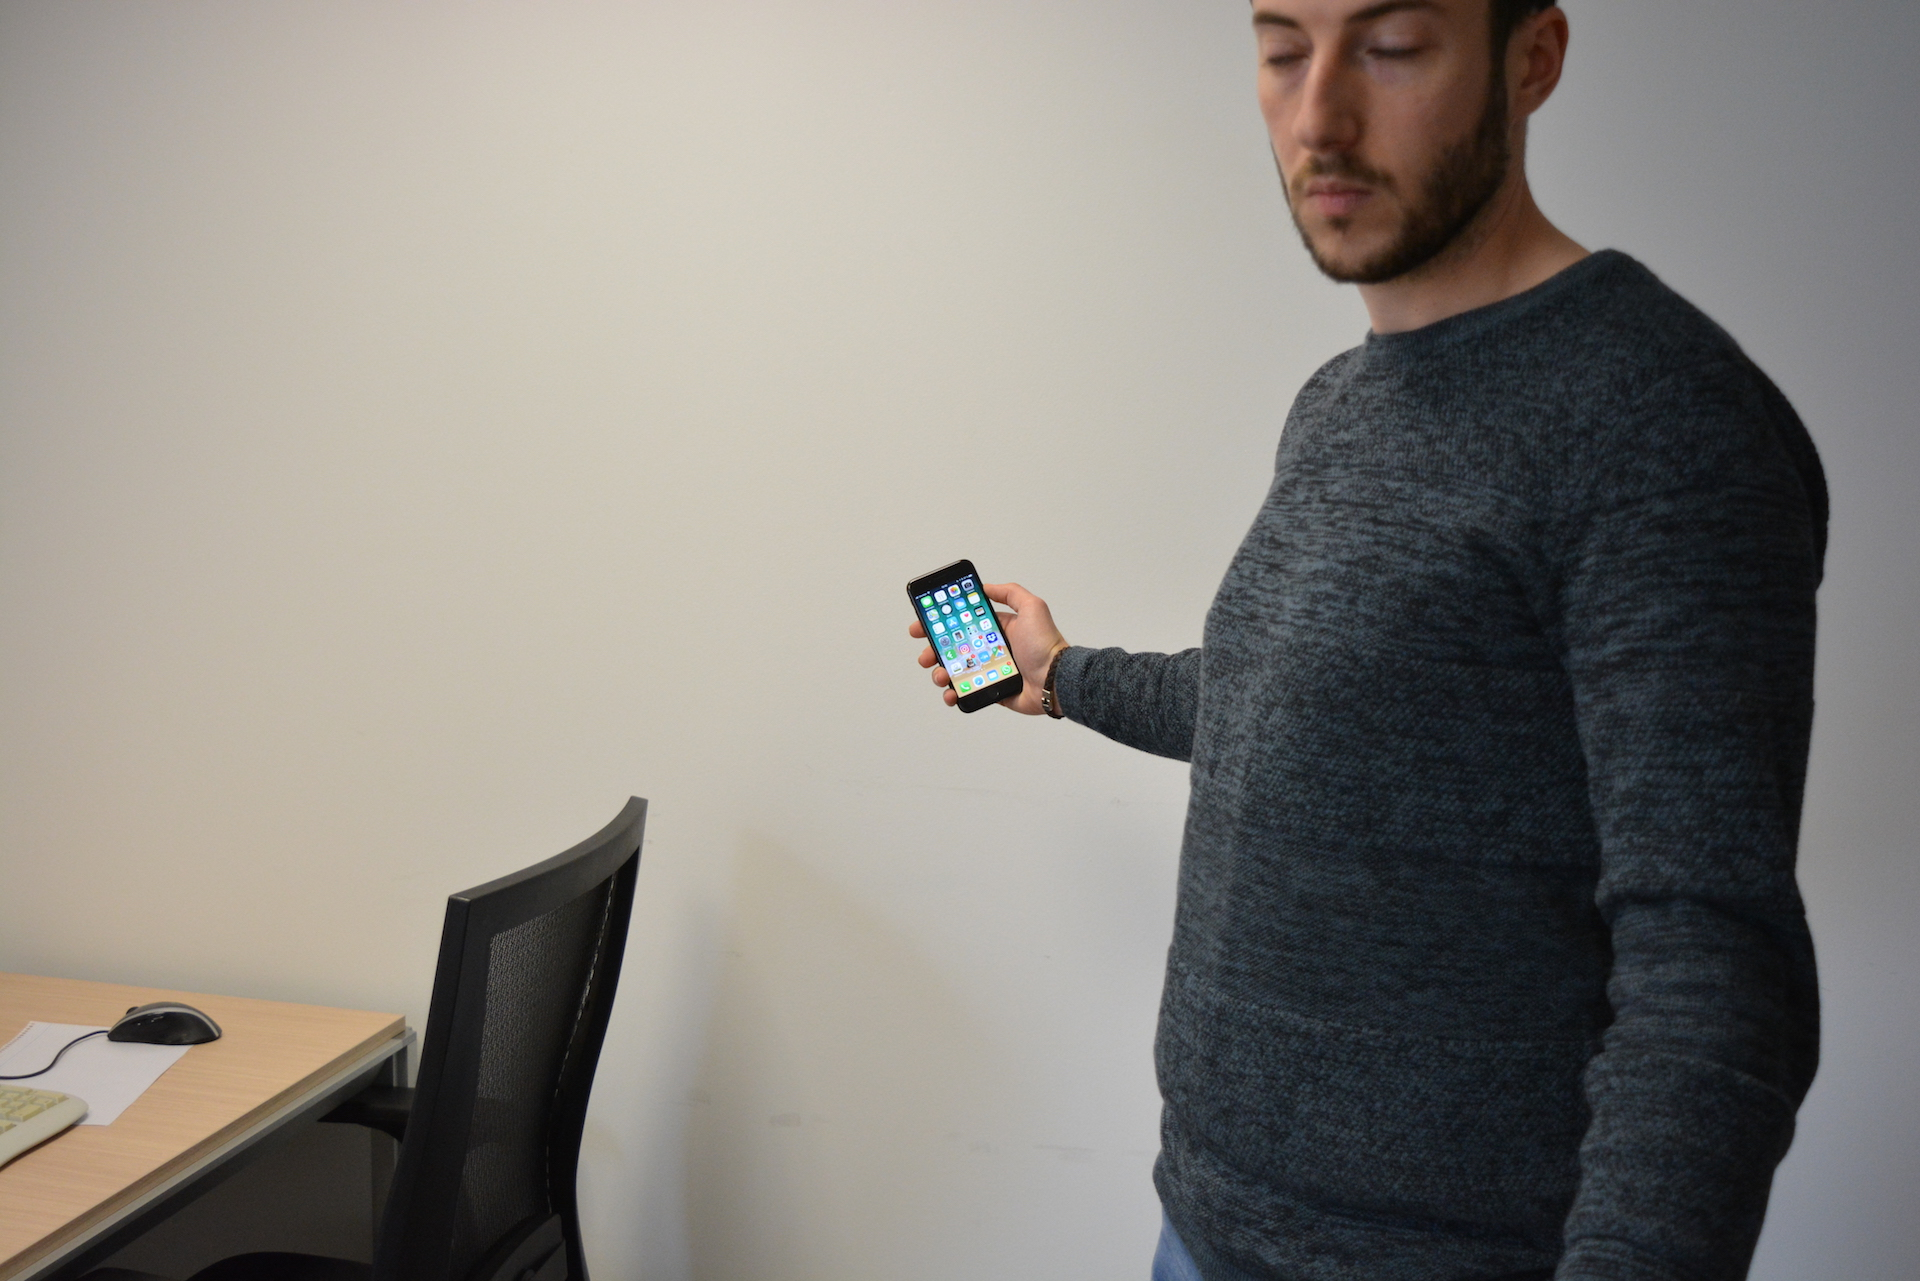smartphone: (905, 558, 1025, 713)
